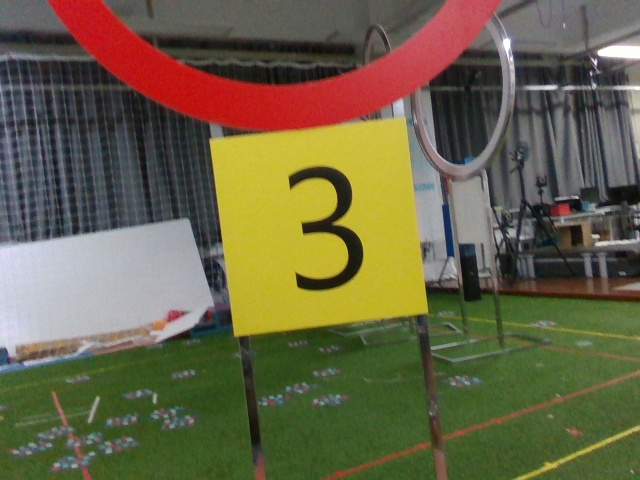target: (227, 137, 411, 321)
